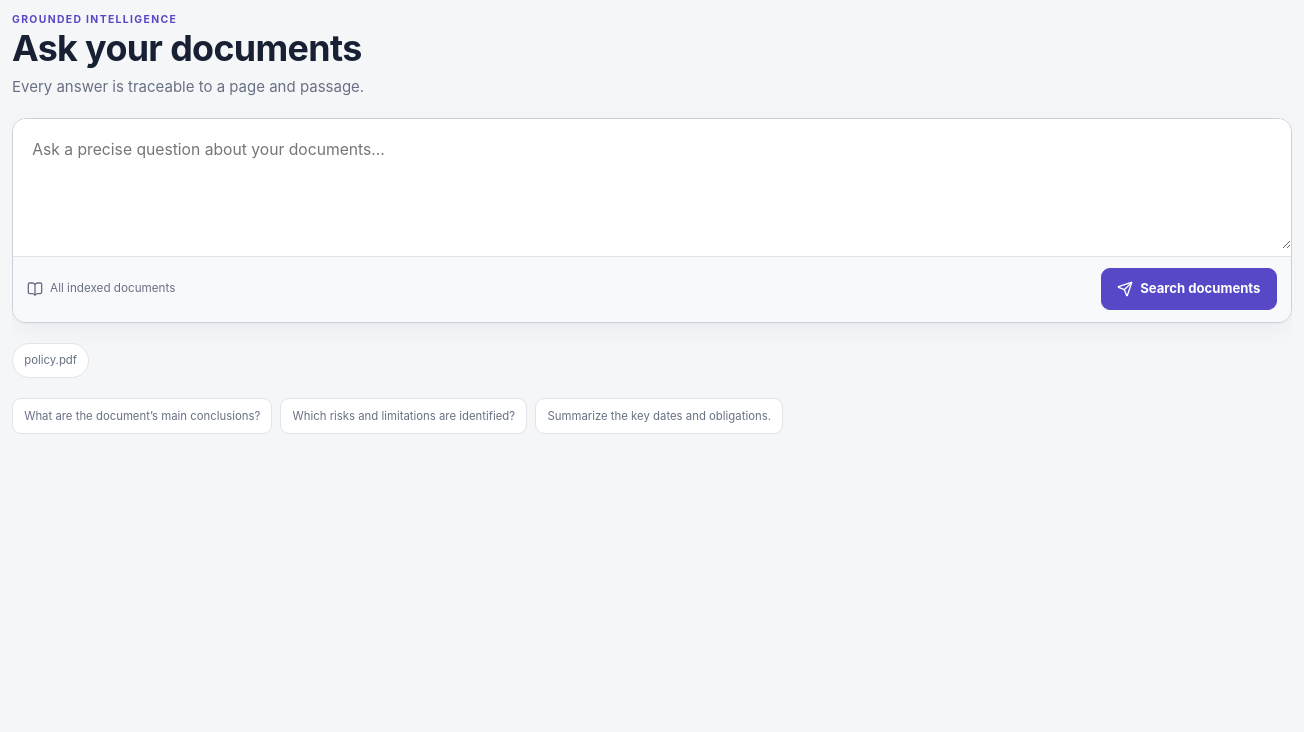
AskPage › submits a question and expands its cited evidence
This screenshot has width=1304, height=732.
Type "When did it launch?" into the text box labelled "question". click: (652, 184)
box: [13,119,1291,249]
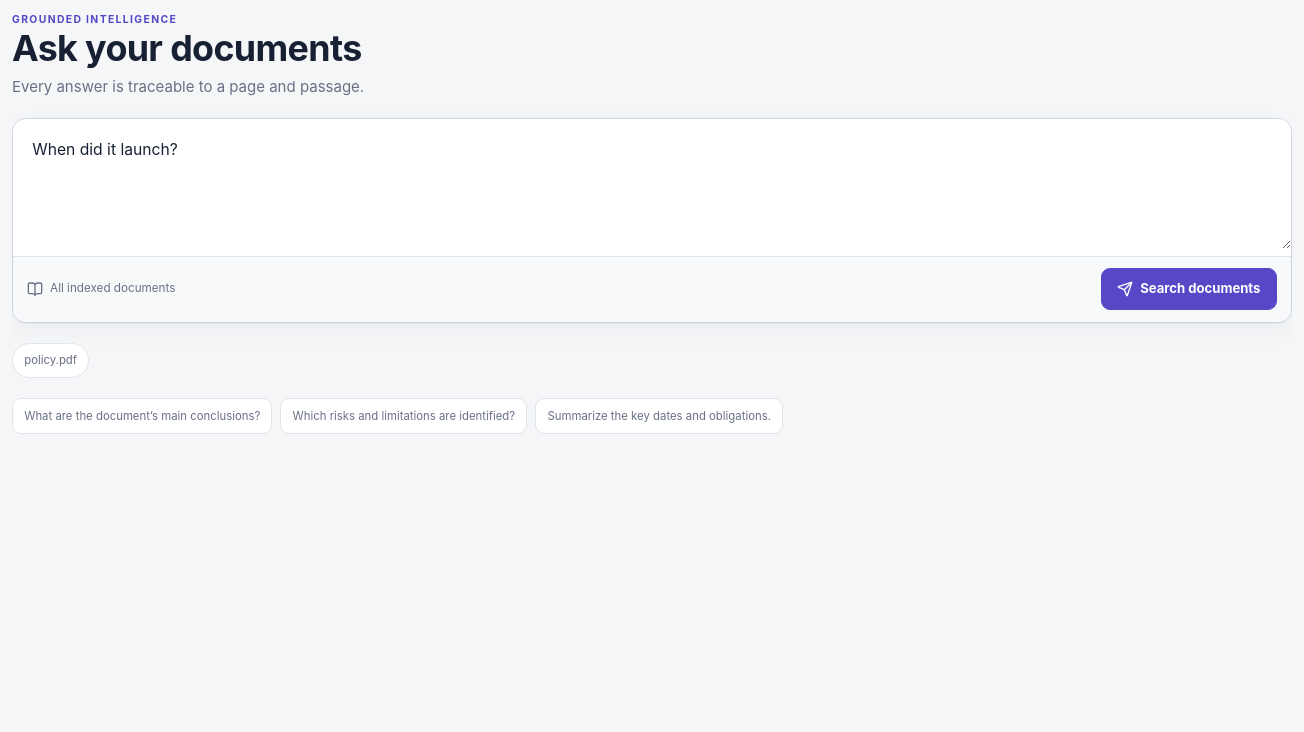
Click the button "Search documents". click: (1189, 289)
box: [1101,268,1277,310]
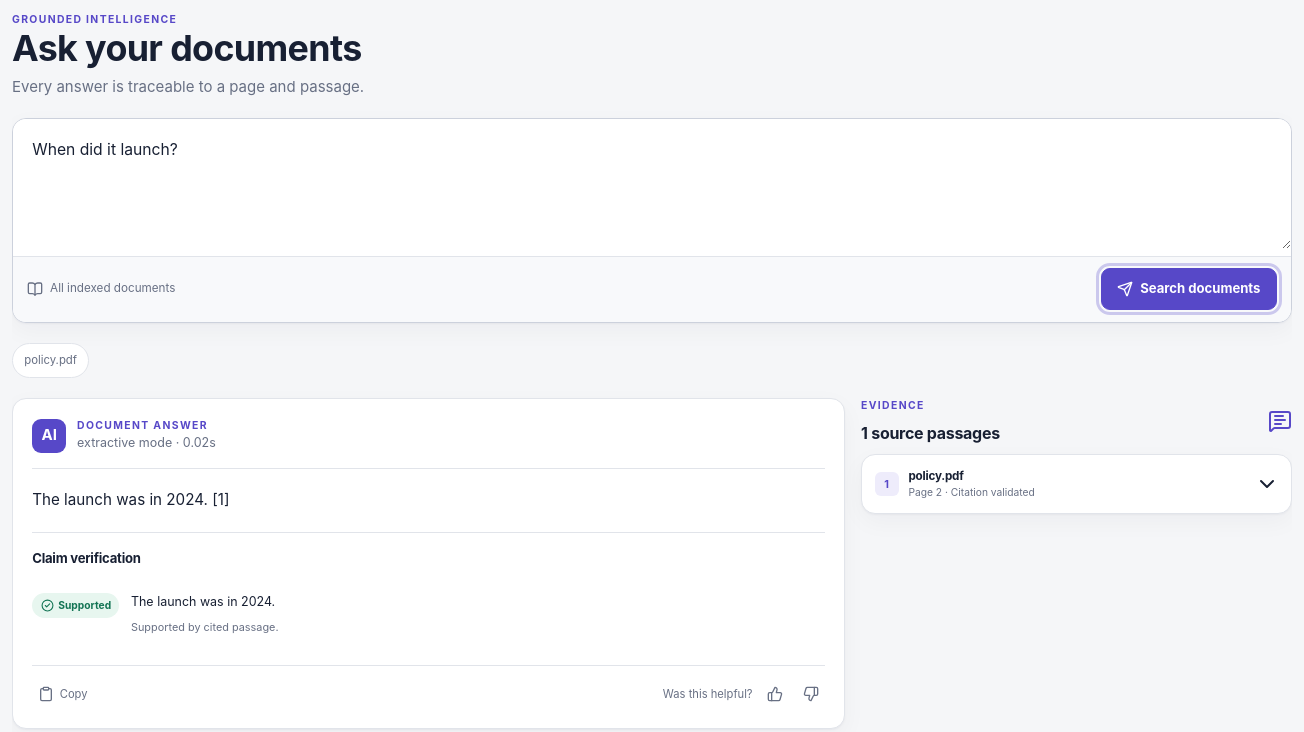
Check: the text "The launch was in 2024. [1]" is shown, box [32,490,230,509]
Click the button "1 policy.pdf Page 2 · Citation validated". click: (936, 476)
box: [874,468,1278,500]
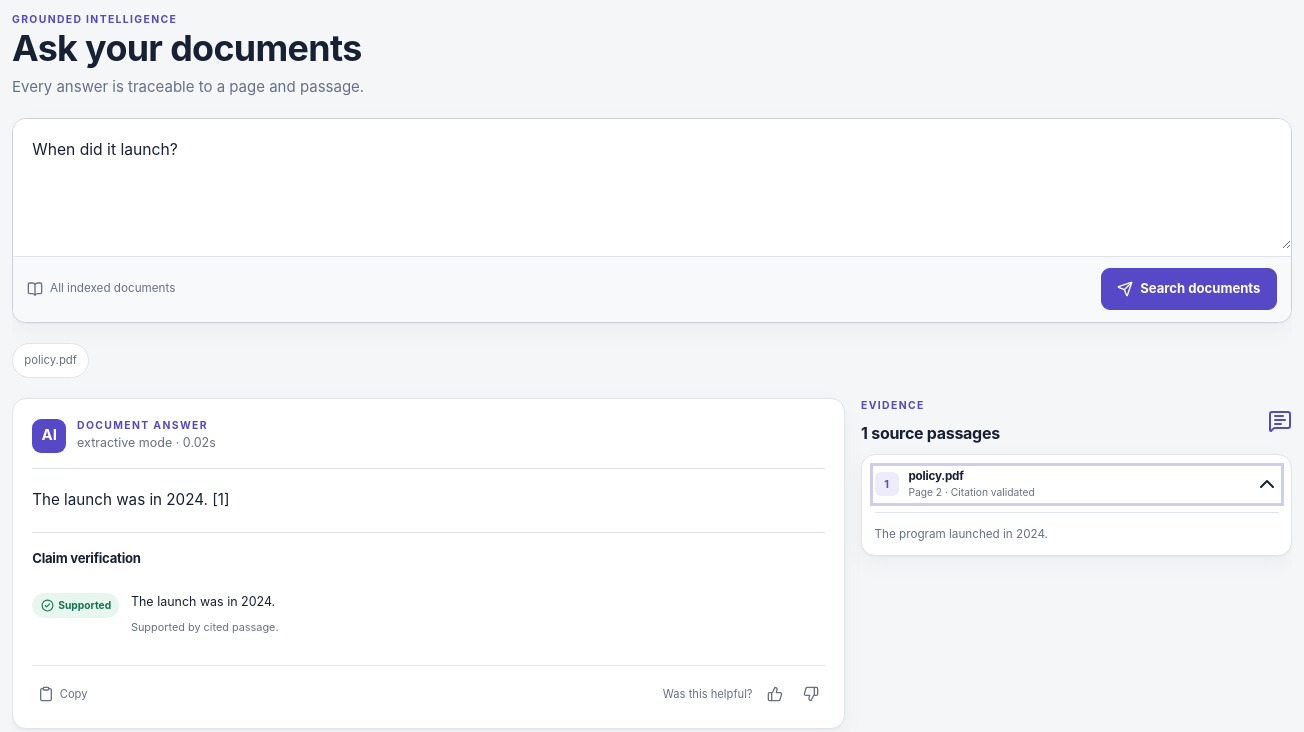
Check: the button "1 policy.pdf Page 2 · Citation validated" is expanded, box [874,468,1278,500]
Check: the text "The program launched in 2024." is shown, box [874,512,1278,543]
